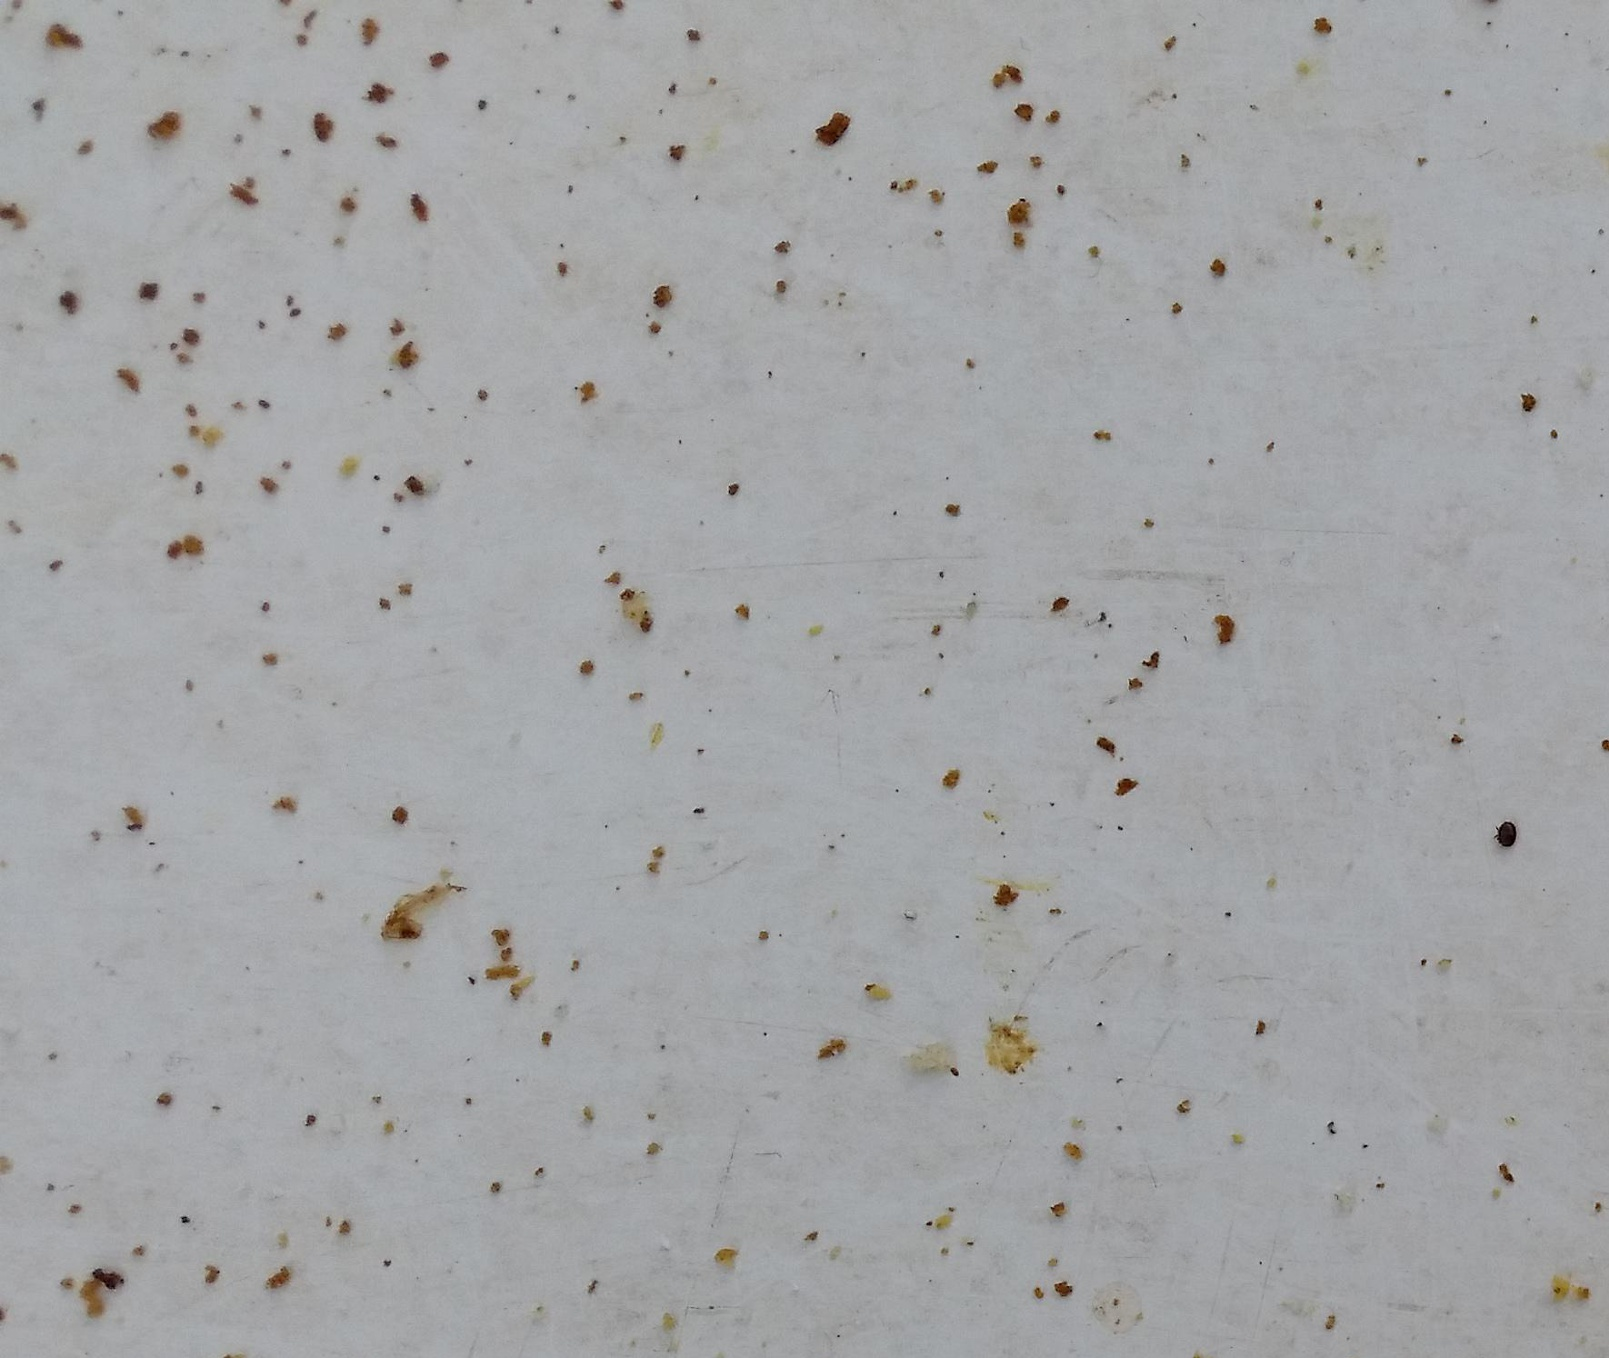Varroa: (1490, 815, 1524, 849)
